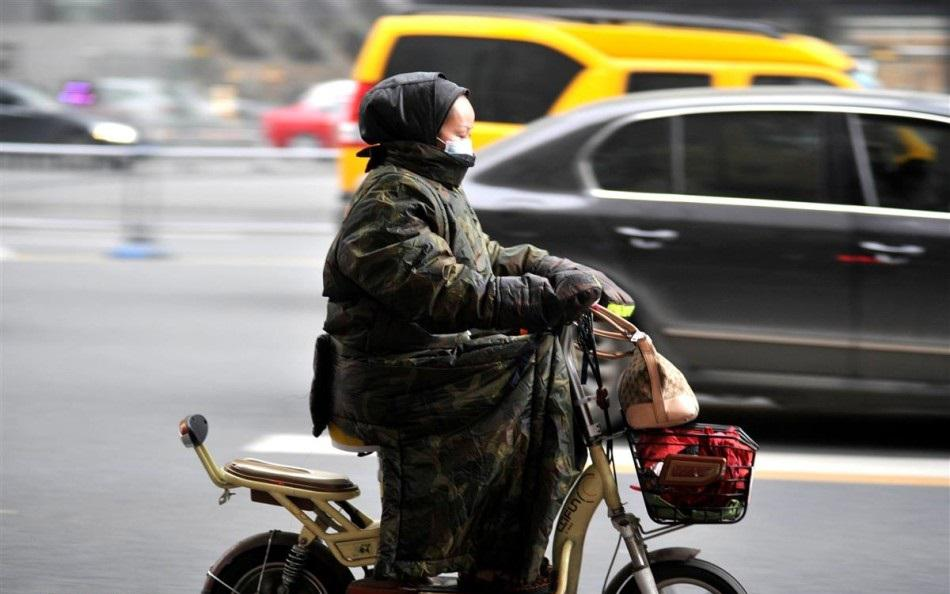OK: (428, 112, 477, 174)
